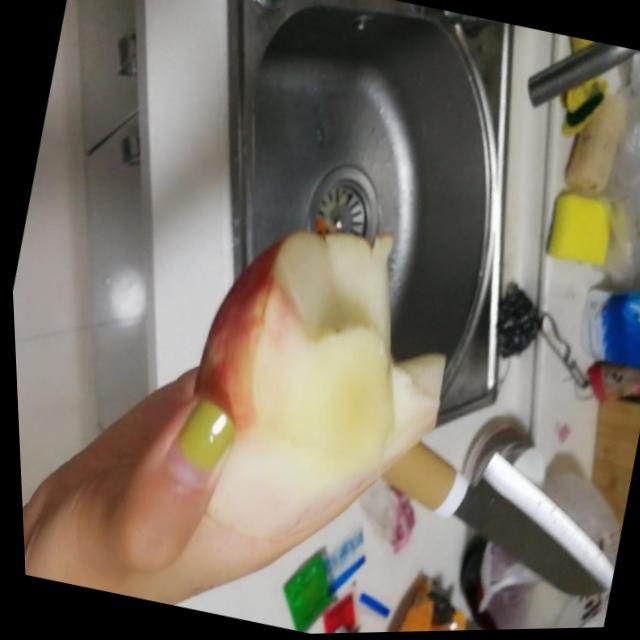Wet: (149, 195, 433, 572)
